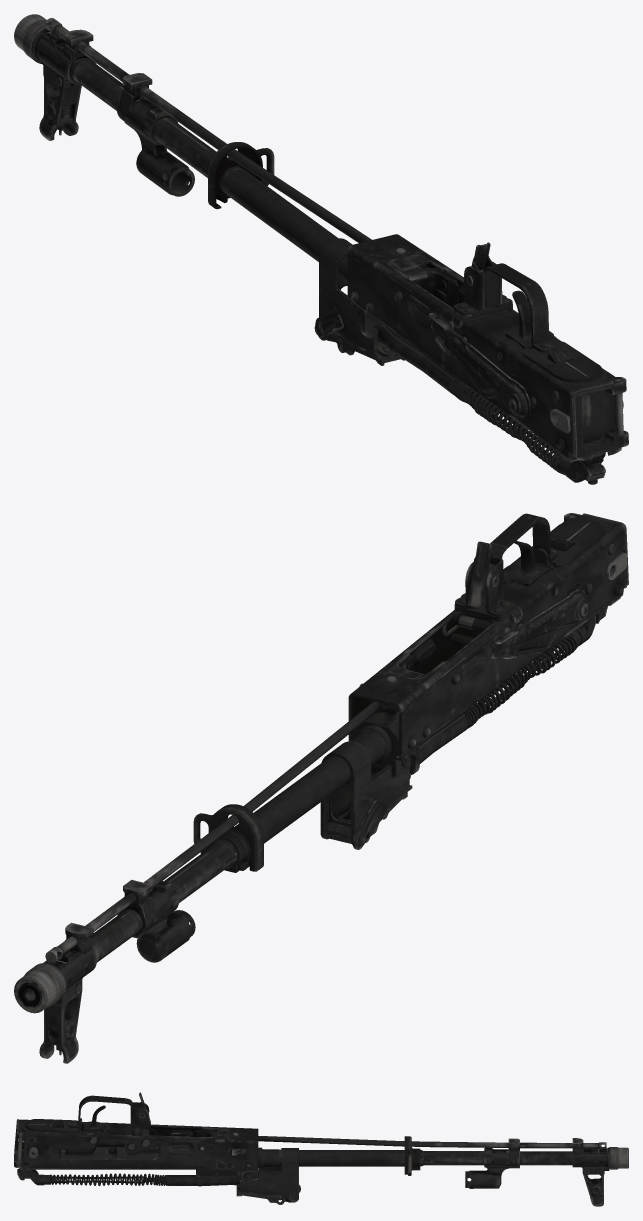
The picture shows the model from 3 angles, top to bottom: view 1: azimuth 30°, elevation 25°; view 2: azimuth 150°, elevation 25°; view 3: azimuth 270°, elevation 25°; orthographic projection. The views are drawn at different scales.
Visible parts, largest first — view 1: TW_5ac66cb05acfc40198510a10_PZ_Import; view 2: TW_5ac66cb05acfc40198510a10_PZ_Import; view 3: TW_5ac66cb05acfc40198510a10_PZ_Import.
Boxes of the visible parts, box(x1,y1,x2,y2) form: TW_5ac66cb05acfc40198510a10_PZ_Import: box(14, 14, 628, 484); TW_5ac66cb05acfc40198510a10_PZ_Import: box(14, 513, 628, 1063); TW_5ac66cb05acfc40198510a10_PZ_Import: box(14, 1092, 628, 1206).
Size of the model in its own units: 0.0285 by 0.373 by 0.0735.
Materials: 1 (1 with a texture image).
